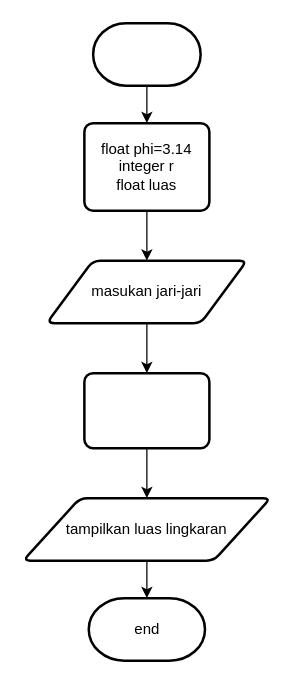
The diagram is 293 pixels wide and 683 high, and some of its shapes have lost their labels. The centre of each missing label's shape, as x and y in pixels:
luas=phi"r"r: [146,410]
start: [146,53]
